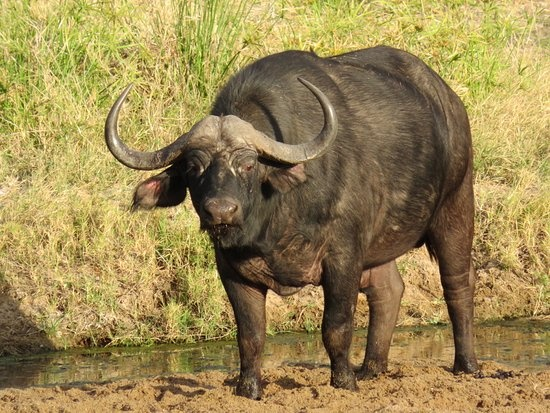buffalo: (100, 43, 481, 400)
